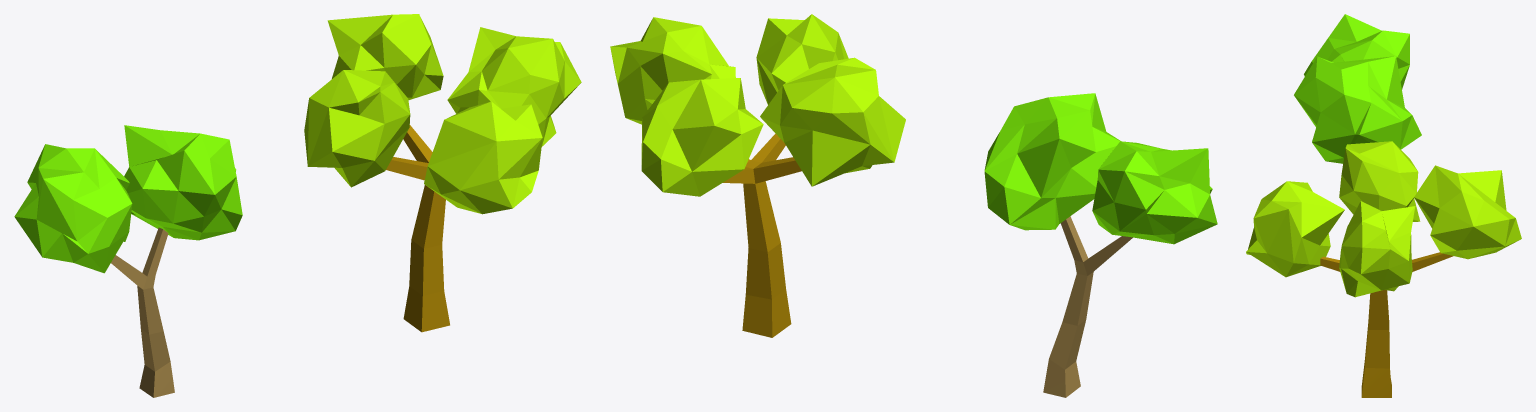
The model's file is trees1.glb.
The picture shows the model from 3 angles, left to right: view 1: azimuth 30°, elevation 25°; view 2: azimuth 150°, elevation 25°; view 3: azimuth 270°, elevation 25°; orthographic projection. The views are drawn at different scales.
Visible parts, largest first — view 1: Tree_2, Tree_1; view 2: Tree_2, Tree_1; view 3: Tree_2, Tree_1.
Part boxes in pixels (bbox=[...]): Tree_2: bbox=[304, 14, 581, 332]; Tree_1: bbox=[14, 125, 242, 397]; Tree_2: bbox=[610, 14, 905, 337]; Tree_1: bbox=[984, 93, 1217, 397]; Tree_2: bbox=[1246, 141, 1521, 397]; Tree_1: bbox=[1294, 14, 1421, 163].
Size of the model in its own units: 70.28 by 32.38 by 36.04.
